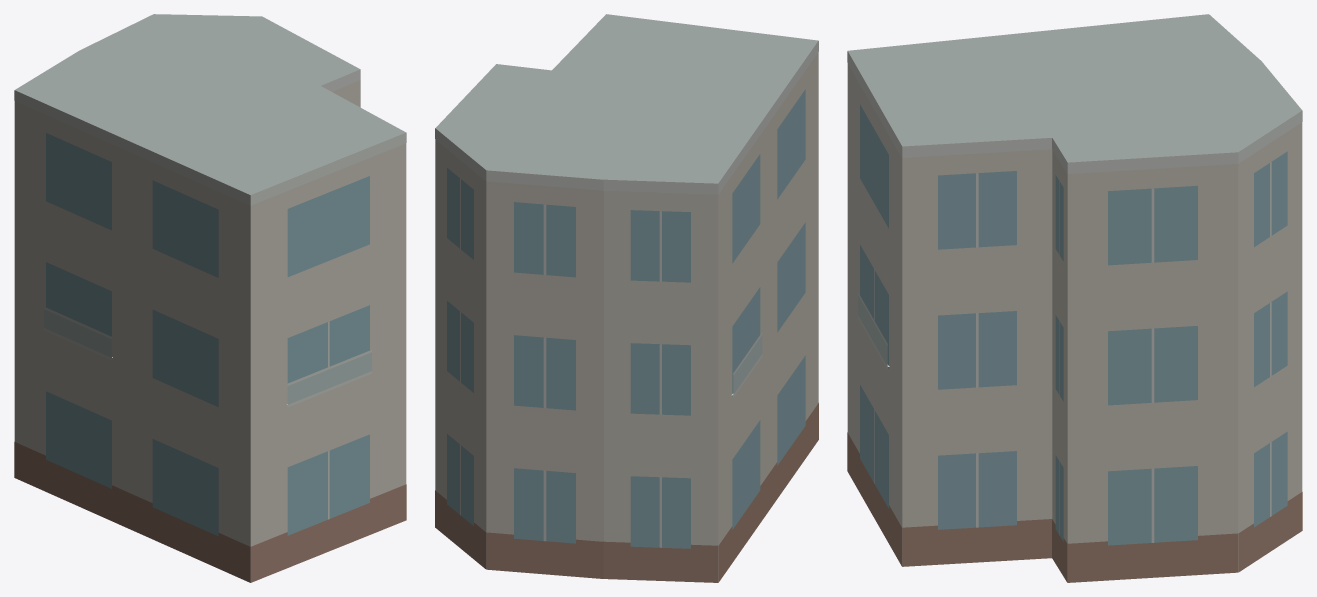
Rendered from survey-upis-32474333.glb.
The picture shows the model from 3 angles, left to right: view 1: azimuth 30°, elevation 25°; view 2: azimuth 150°, elevation 25°; view 3: azimuth 270°, elevation 25°; orthographic projection. The views are drawn at different scales.
Visible parts, largest first — view 1: survey-upis-32474333.tmp; view 2: survey-upis-32474333.tmp; view 3: survey-upis-32474333.tmp.
Boxes of the visible parts, x1=… form: survey-upis-32474333.tmp: x1=14, y1=14, x2=406, y2=582; survey-upis-32474333.tmp: x1=435, y1=14, x2=818, y2=582; survey-upis-32474333.tmp: x1=847, y1=14, x2=1302, y2=582.
Size of the model in its own units: 6.76 by 8.9 by 8.74.
